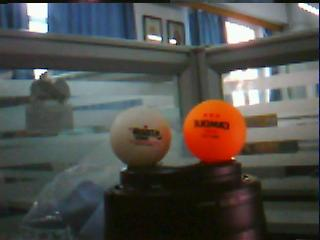oball: (182, 99, 247, 160)
